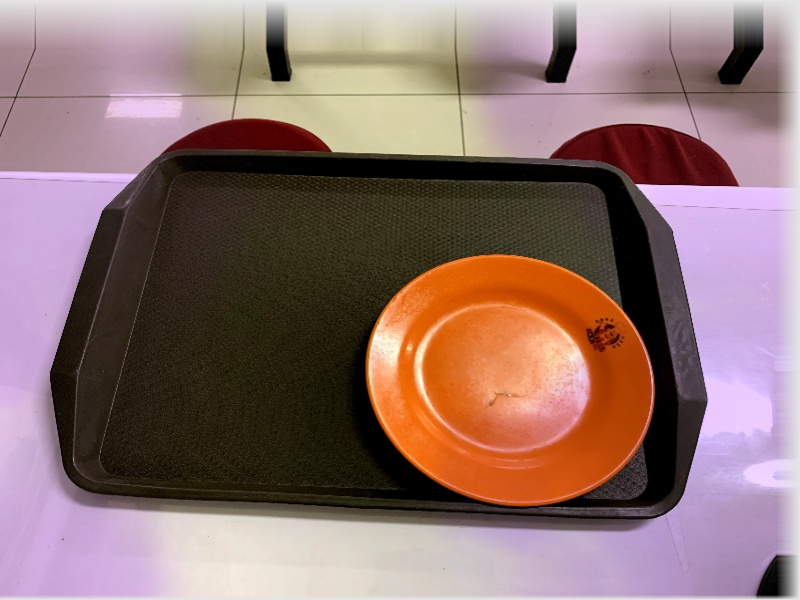dish10: (360, 250, 655, 508)
